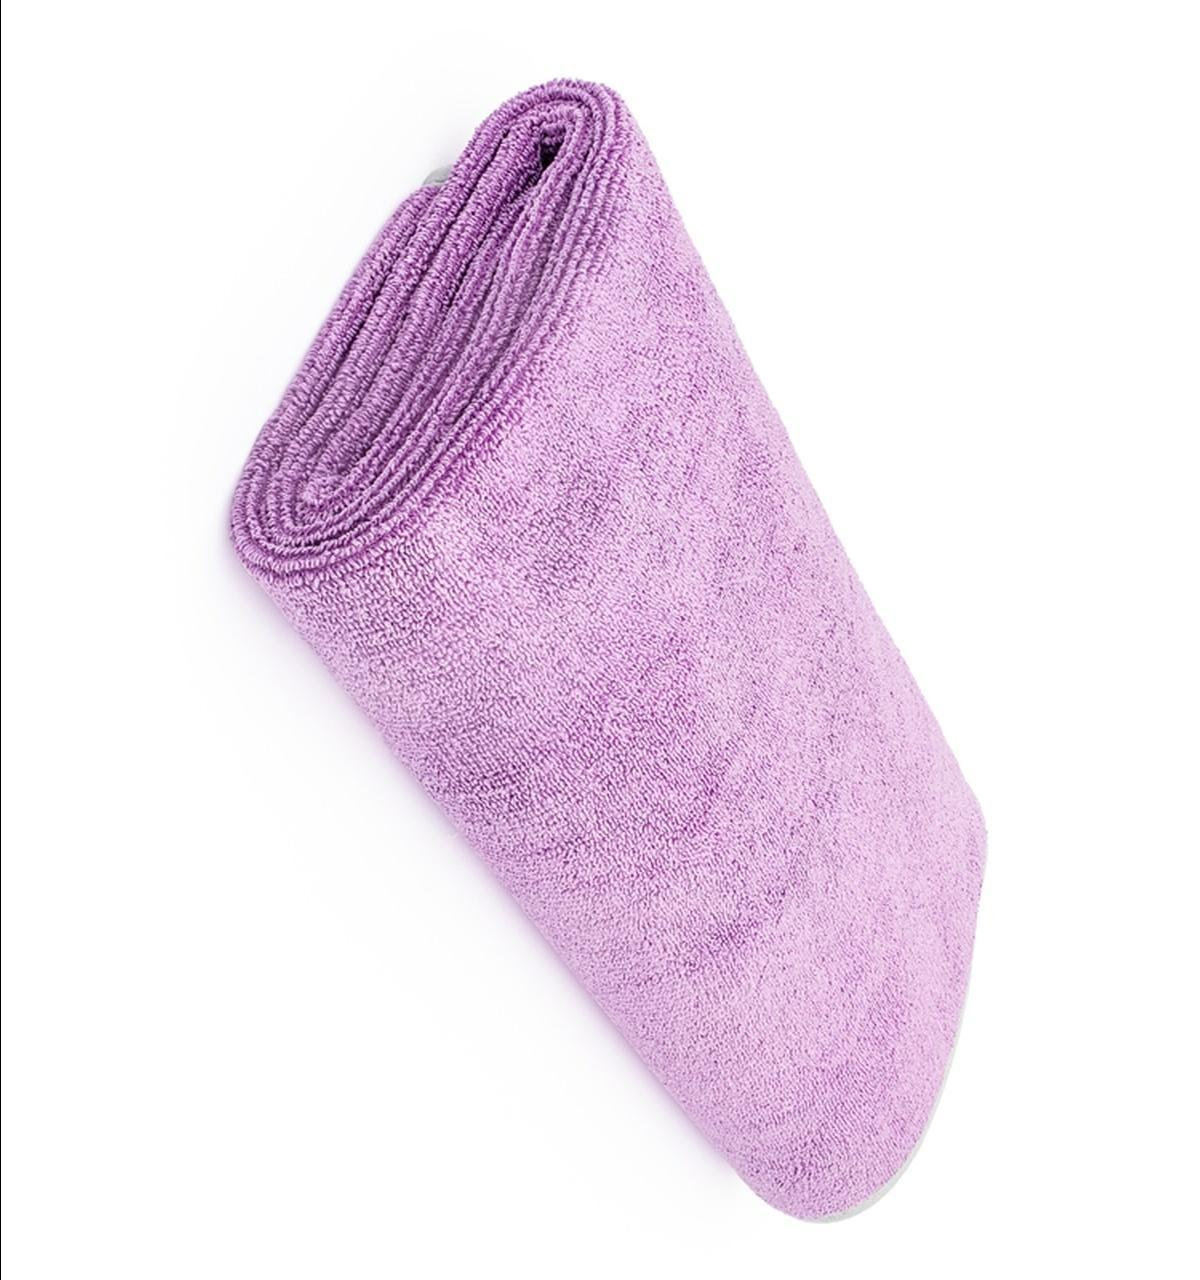towel: (230, 63, 963, 1234)
